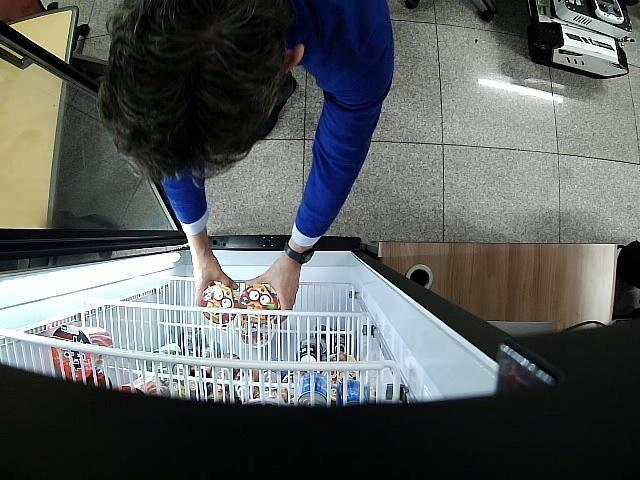06_nuguri_S: (238, 284, 280, 324), (201, 283, 240, 323)
